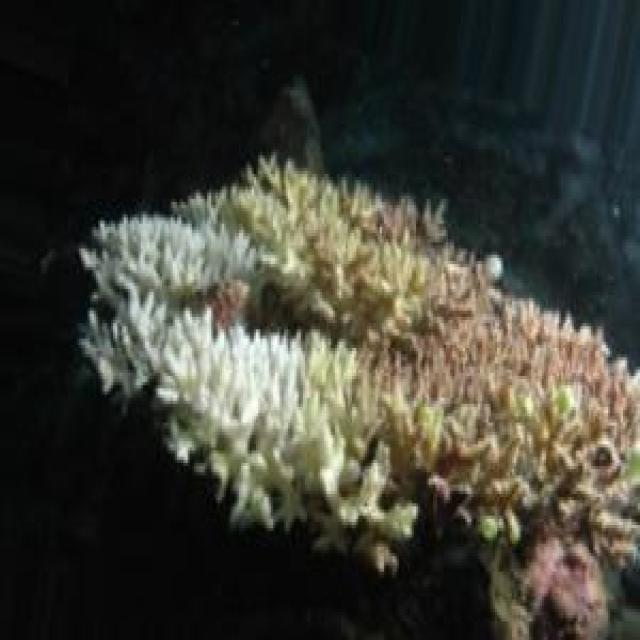bleached coral: (85, 284, 342, 529), (80, 191, 255, 354)
healthy coral: (378, 208, 640, 529)
